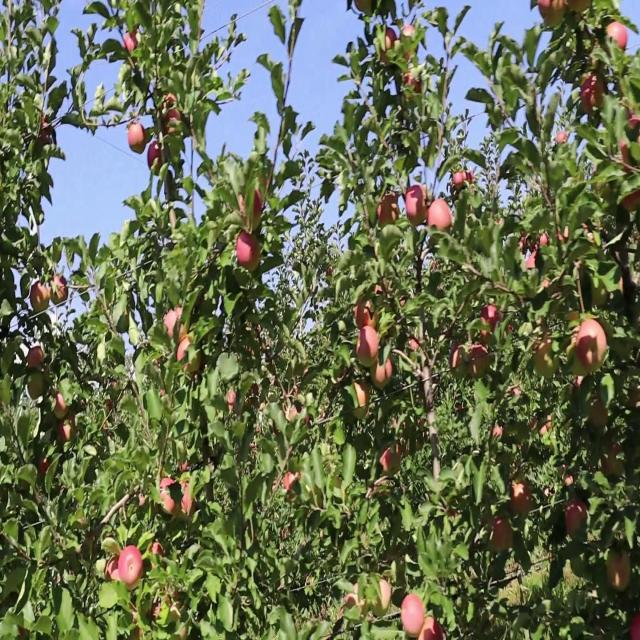apple: (576, 319, 608, 373), (400, 28, 423, 94), (532, 334, 559, 382), (580, 71, 608, 116), (620, 113, 640, 174), (404, 184, 429, 228), (236, 234, 262, 276), (120, 547, 144, 590), (356, 327, 380, 370), (532, 334, 555, 377), (404, 42, 423, 94), (608, 554, 632, 594), (376, 28, 399, 68), (564, 504, 589, 540), (428, 199, 453, 235), (240, 191, 264, 228), (492, 519, 516, 555), (404, 597, 425, 638), (620, 170, 640, 213), (604, 21, 629, 55), (604, 440, 626, 478), (380, 191, 402, 228), (480, 305, 502, 341), (372, 355, 393, 391), (600, 447, 624, 478), (160, 476, 178, 517), (540, 0, 567, 27), (404, 56, 423, 94), (128, 120, 148, 156), (512, 483, 533, 517), (588, 398, 610, 430), (164, 99, 183, 135), (376, 575, 392, 617), (352, 383, 370, 420), (400, 28, 418, 64), (356, 298, 378, 327), (472, 348, 491, 380), (164, 92, 183, 124), (348, 583, 368, 613), (452, 170, 475, 196), (180, 483, 196, 519), (32, 284, 51, 313), (348, 583, 368, 610), (380, 447, 400, 473), (60, 412, 76, 444), (420, 618, 444, 639), (52, 277, 69, 306), (36, 120, 53, 148), (560, 462, 576, 491), (284, 469, 301, 496), (536, 412, 553, 439), (28, 376, 47, 400), (180, 341, 193, 375), (404, 71, 423, 94), (148, 142, 163, 171), (124, 28, 140, 55), (452, 348, 470, 372), (56, 391, 69, 420), (28, 348, 45, 370), (356, 383, 370, 409), (380, 447, 394, 473), (108, 554, 120, 583), (452, 348, 466, 372), (164, 312, 176, 340), (556, 227, 571, 249), (180, 341, 192, 368), (572, 376, 585, 396), (372, 284, 389, 299), (348, 590, 359, 610), (228, 391, 238, 412), (492, 426, 504, 441), (632, 618, 640, 639), (40, 462, 50, 478), (180, 462, 191, 476), (176, 305, 184, 324), (152, 547, 164, 558), (20, 625, 29, 639)
